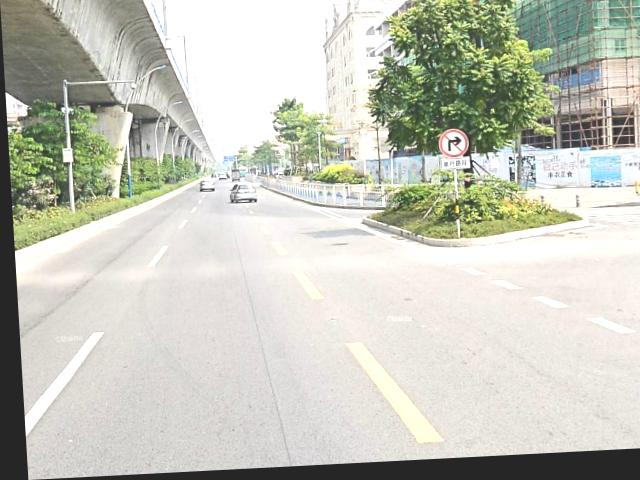not_turn_right: (434, 133, 470, 167)
